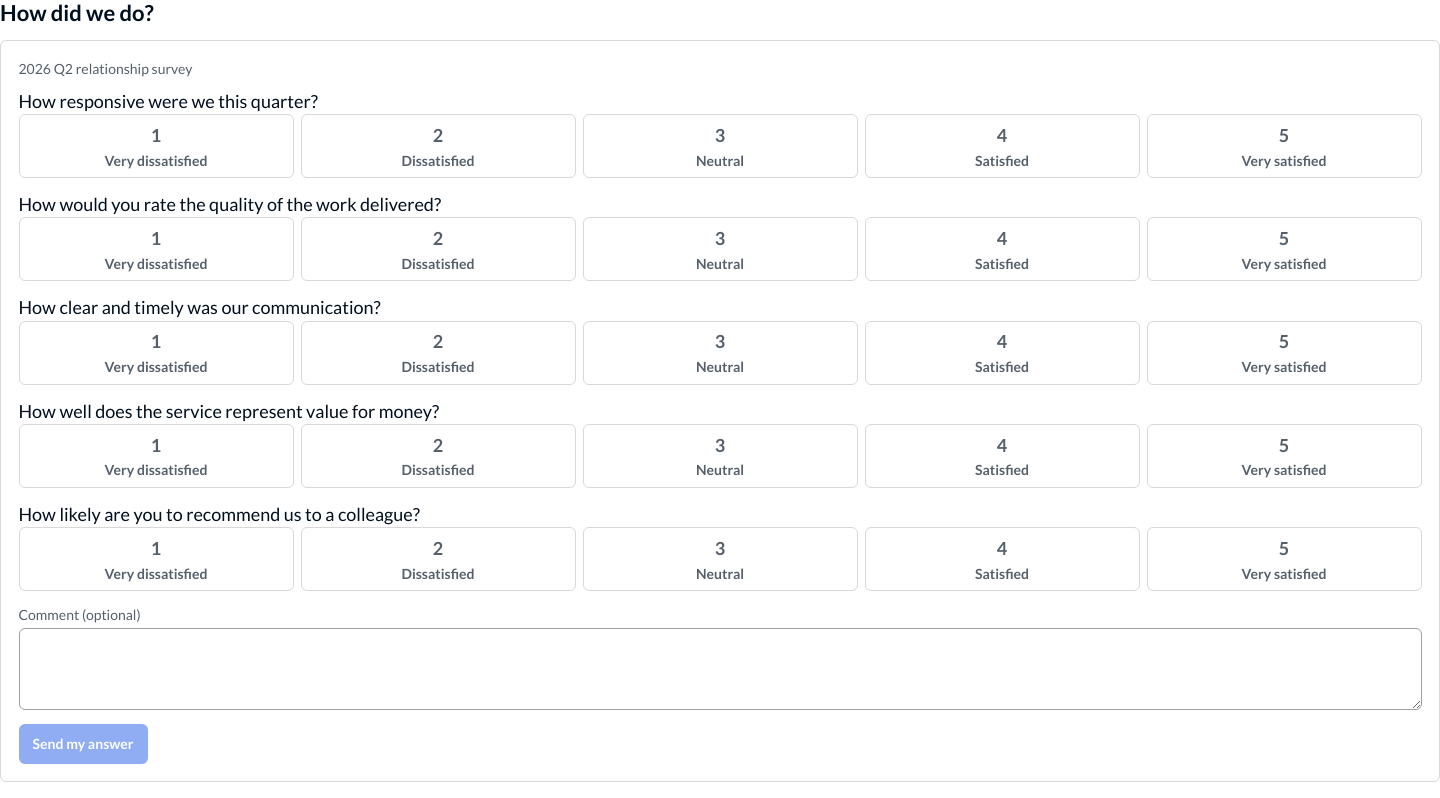
Test: survey email link › asks the five quarterly questions describe named, and answers them in one post
Expected: the text "2026 Q2 relationship survey" is shown, x1=18 y1=60 x2=192 y2=77
Expected: the button "Send my answer" is disabled, x1=18 y1=724 x2=148 y2=764
Click the button with aria-label "4, Satisfied". click: click(1002, 146)
box: x1=864 y1=114 x2=1140 y2=178
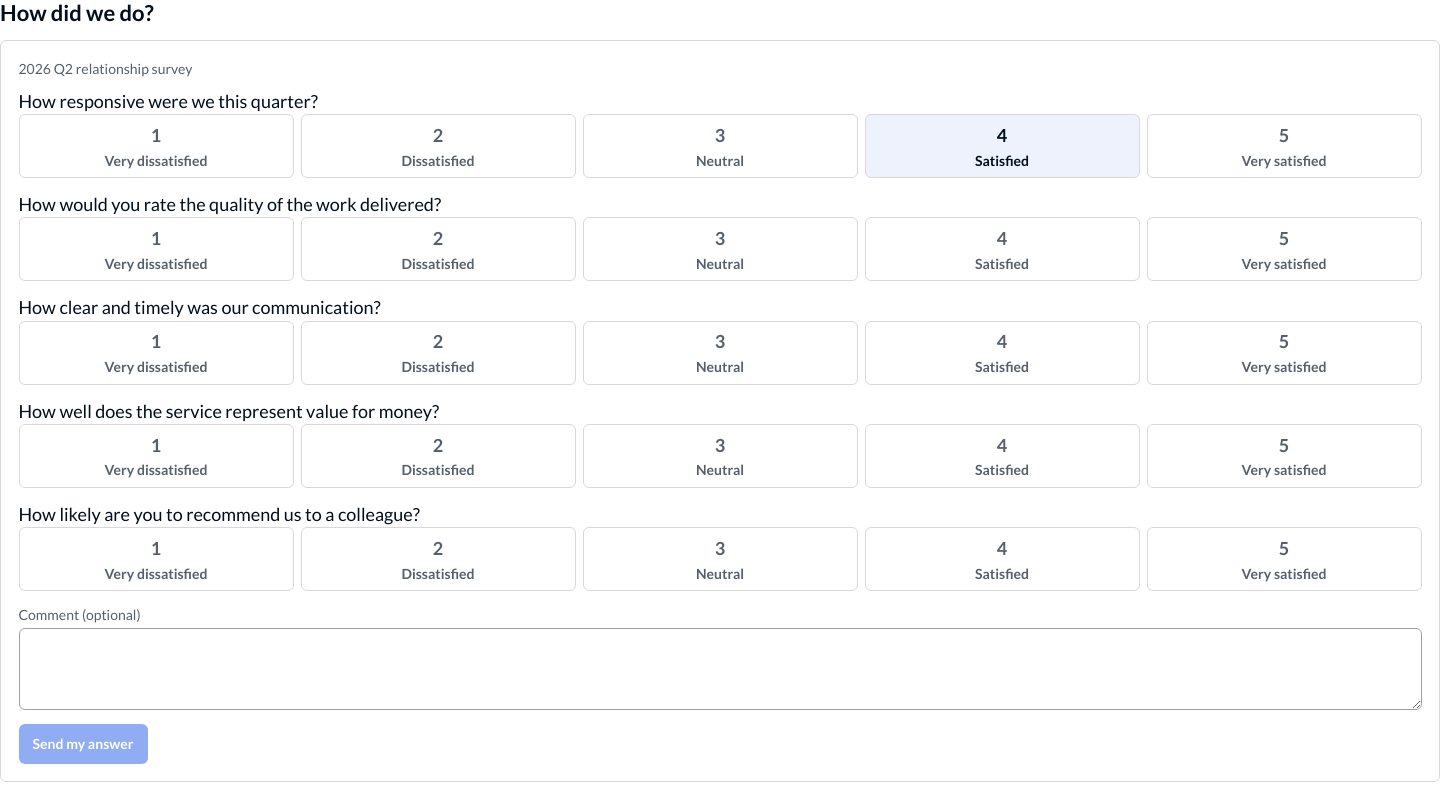
Click the button with aria-label "5, Very satisfied". click: click(1284, 249)
box: x1=1146 y1=217 x2=1422 y2=281
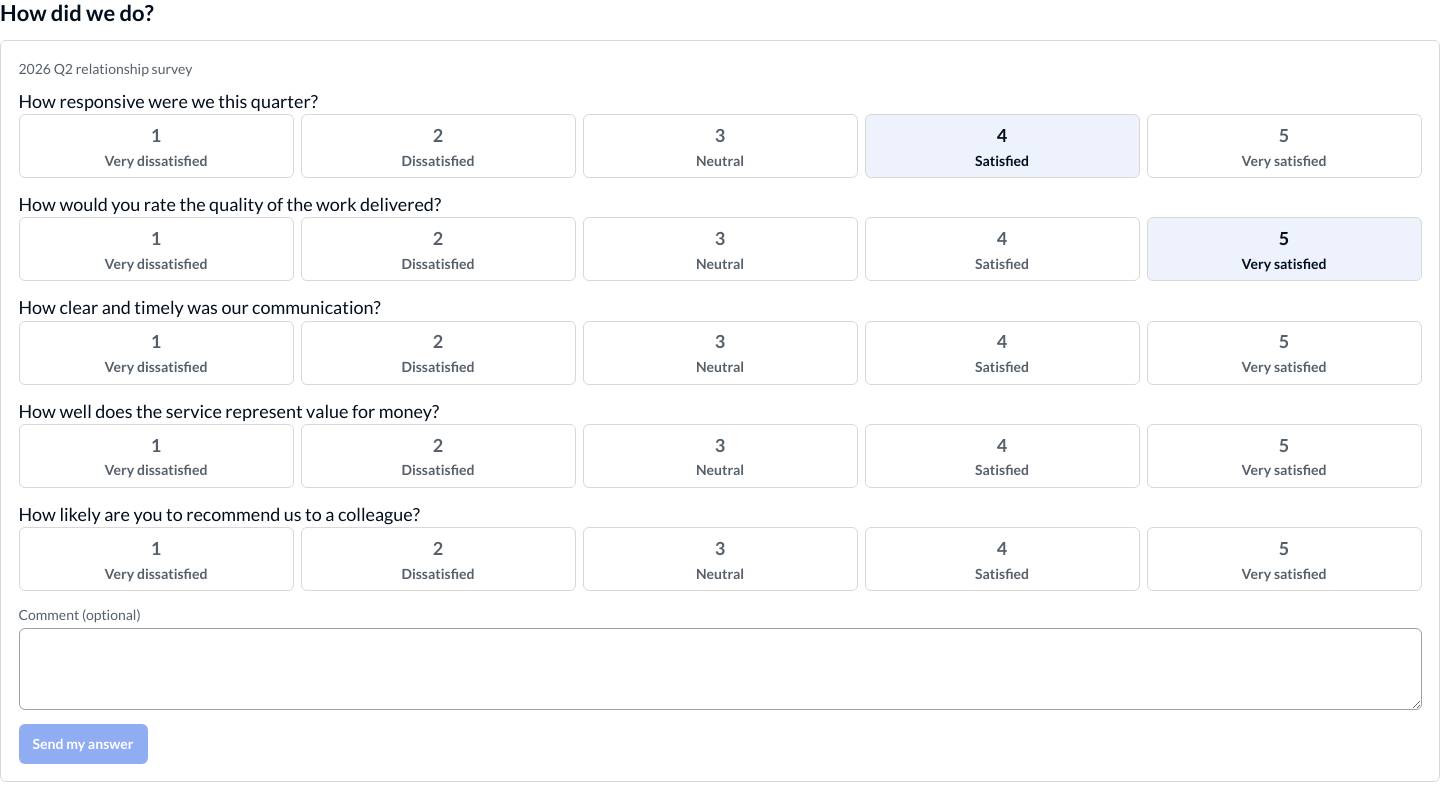
Click the button with aria-label "4, Satisfied". click: click(1002, 352)
box: x1=864 y1=320 x2=1140 y2=384
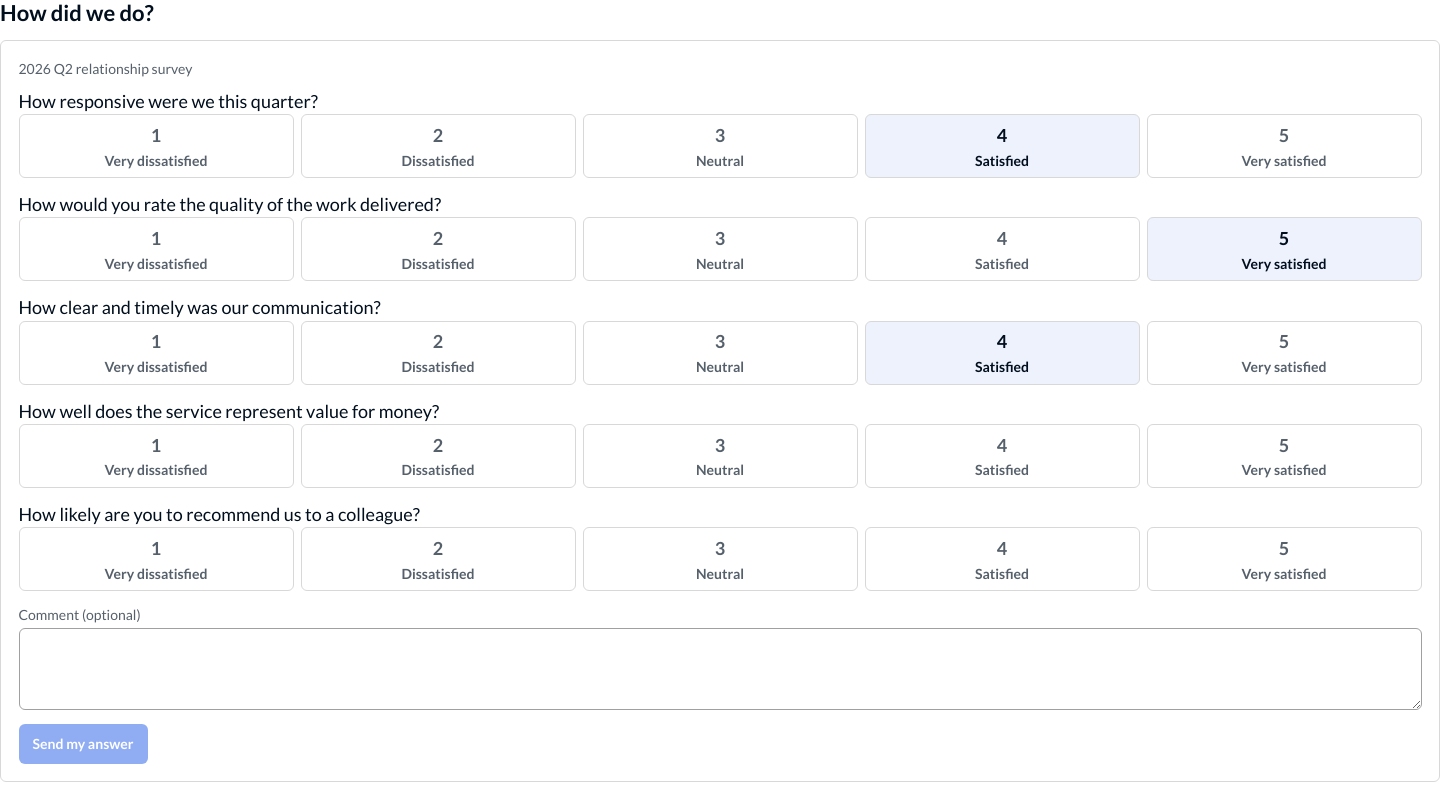
Click the button with aria-label "3, Neutral". click: click(720, 456)
box: x1=582 y1=424 x2=858 y2=488
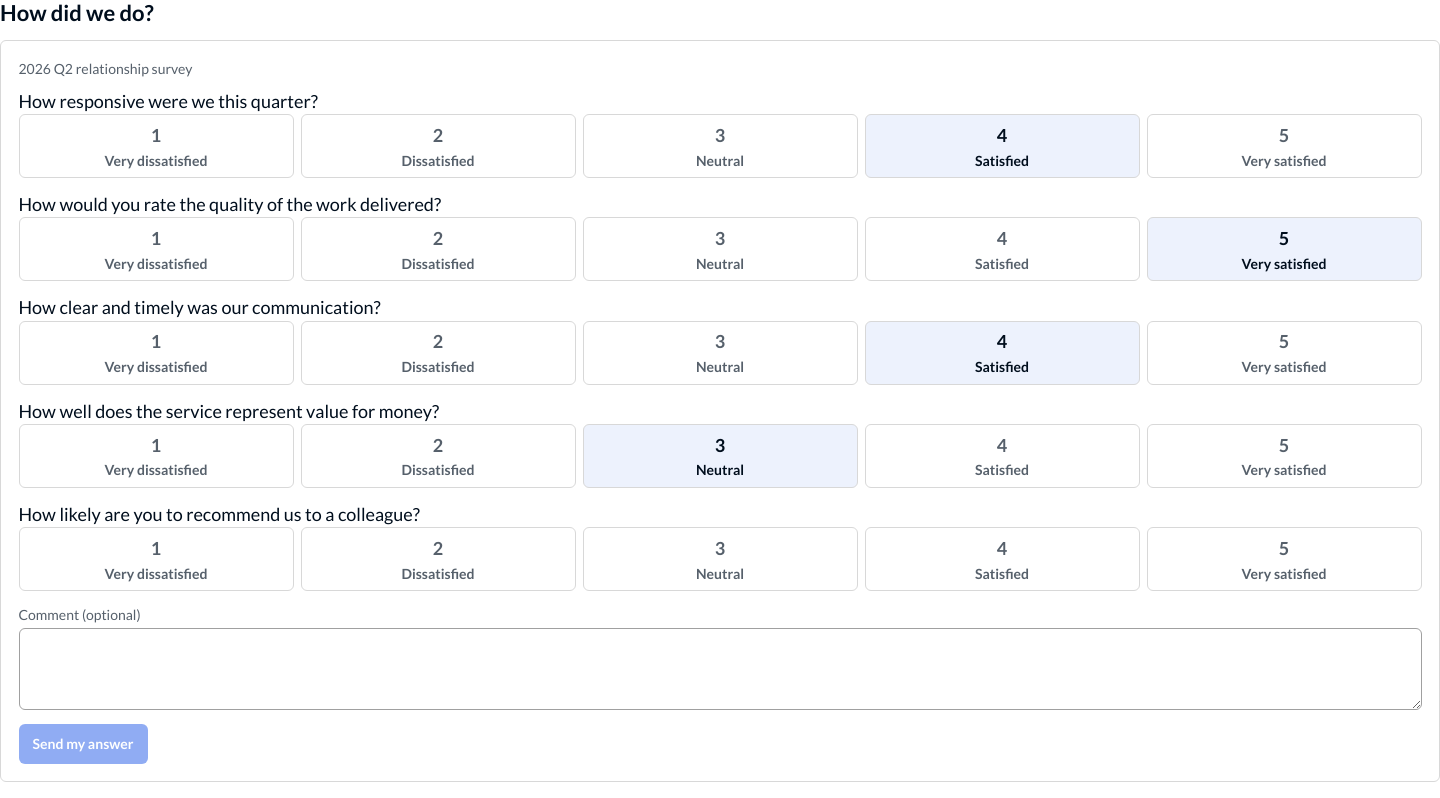
Click the button with aria-label "5, Very satisfied". click: click(1284, 559)
box: x1=1146 y1=527 x2=1422 y2=591
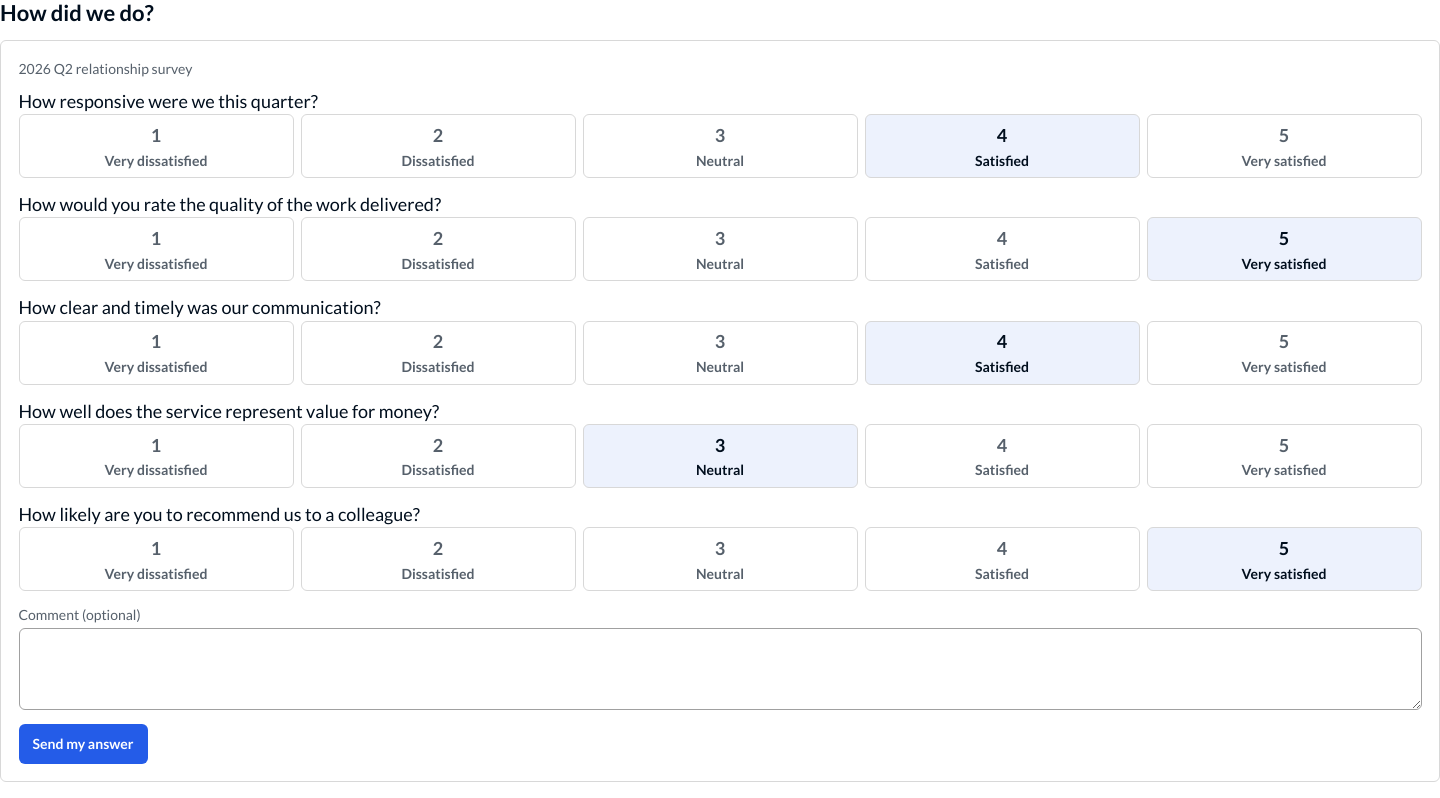
Click the button "Send my answer". click: click(83, 744)
box: x1=18 y1=724 x2=148 y2=764
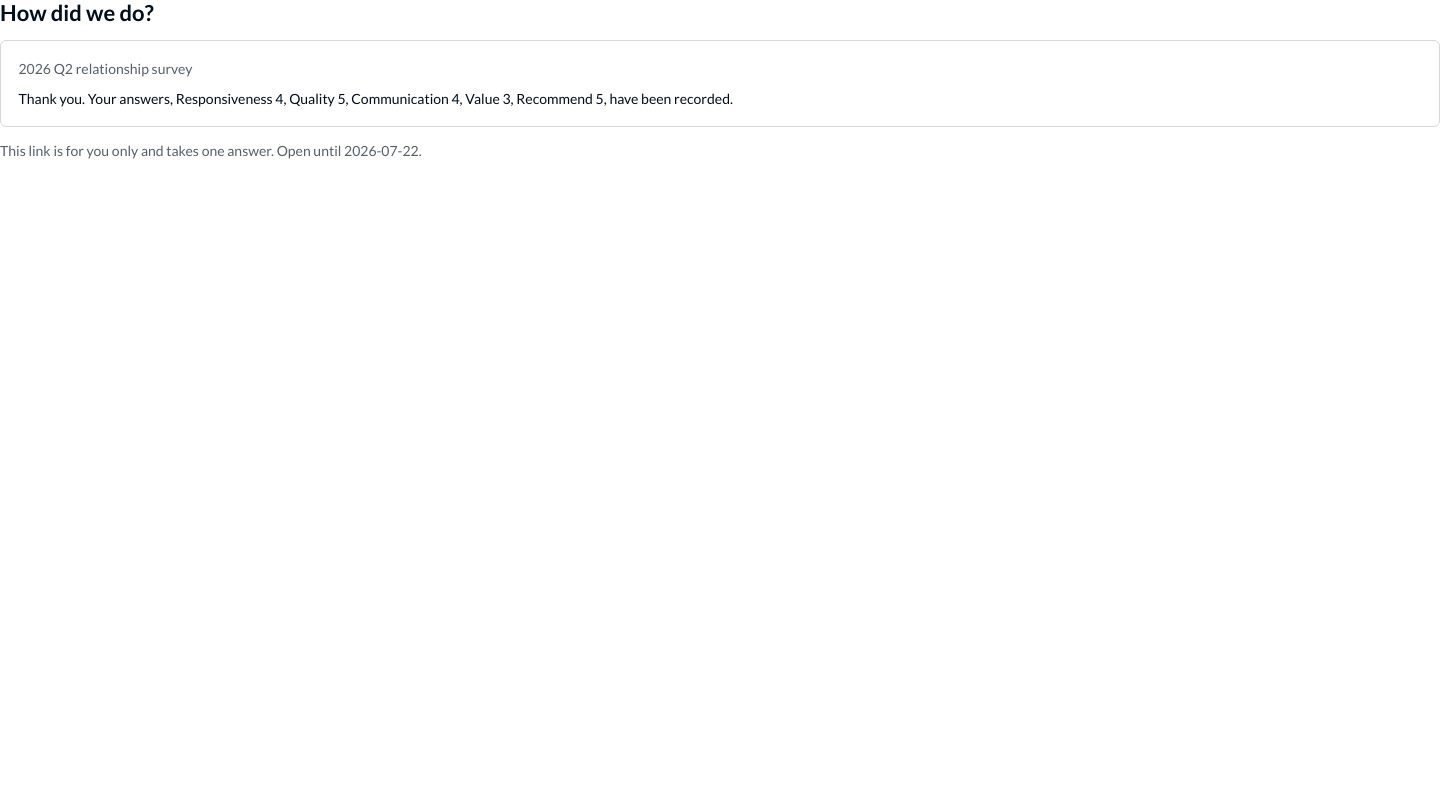
Expected: the message shows "Thank you. Your answers, Responsiveness 4, Quality 5, Communication 4, Value 3, Recommend 5, have been recorded.", x1=18 y1=90 x2=733 y2=107
